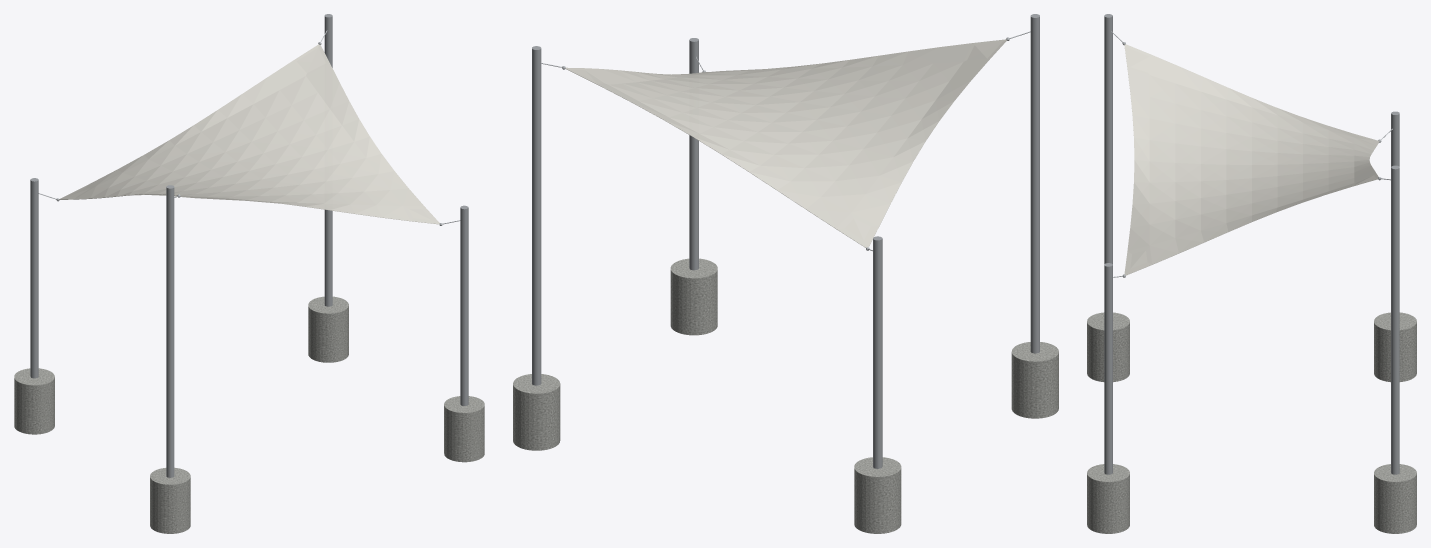
3 renders of one model, left to right at view 1: azimuth 30°, elevation 25°; view 2: azimuth 150°, elevation 25°; view 3: azimuth 270°, elevation 25°, orthographic. The views are drawn at different scales.
Parts seen in each view (by area): view 1: structure.tensile_membrane (×3); view 2: structure.tensile_membrane (×3); view 3: structure.tensile_membrane (×3).
Part boxes in pixels (<box>): structure.tensile_membrane (×3): <box>14,14,484,533</box>; structure.tensile_membrane (×3): <box>513,14,1058,533</box>; structure.tensile_membrane (×3): <box>1087,14,1416,533</box>.
Size of the model in its own units: 5.6 by 4.6 by 5.5.
Materials: 4 (1 with a texture image).
